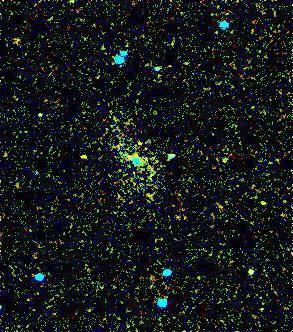star: (73, 144, 103, 174)
